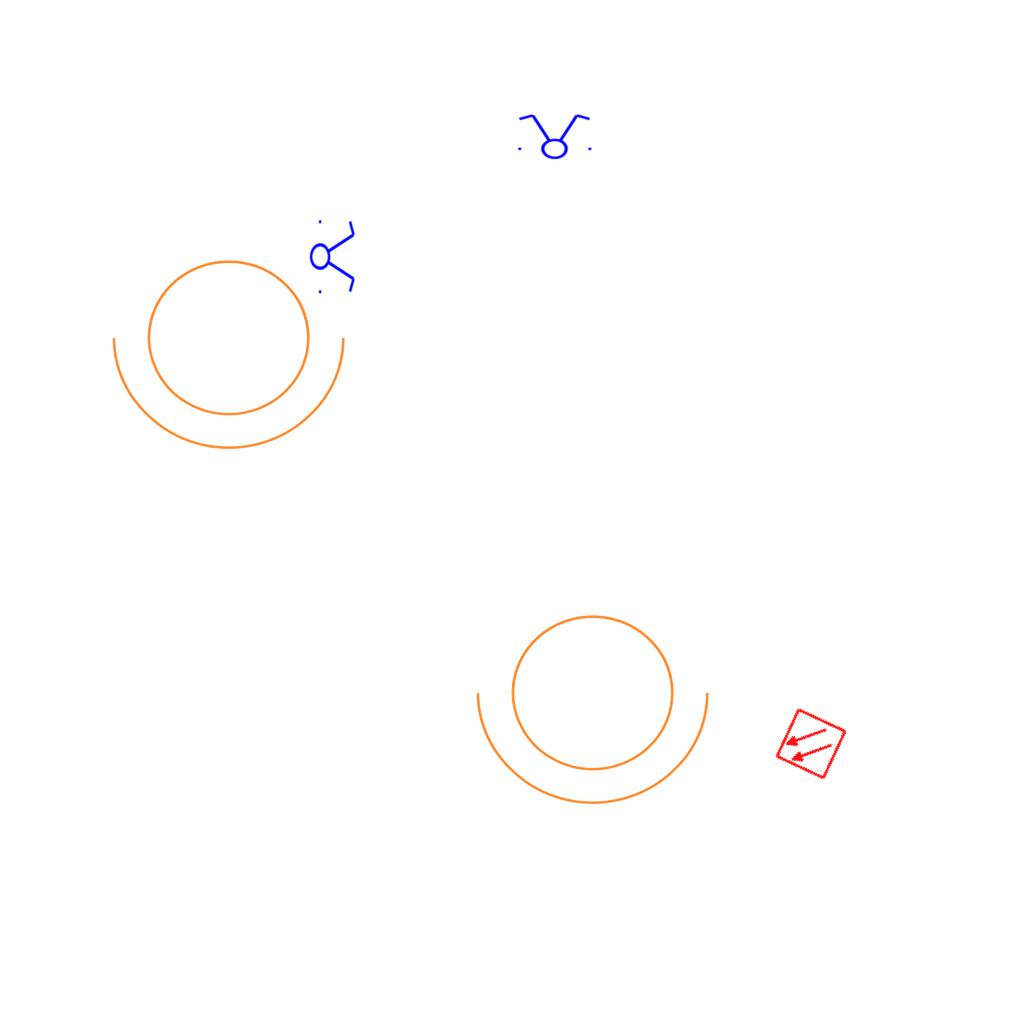RMO_Rauchmelder_optischer: (773, 706, 849, 782)
Scheinwerfer_fuer_Alarmbeleuchtung: (467, 590, 731, 815), (103, 235, 367, 460)
Serienschalter: (309, 214, 357, 298), (512, 112, 596, 160)
